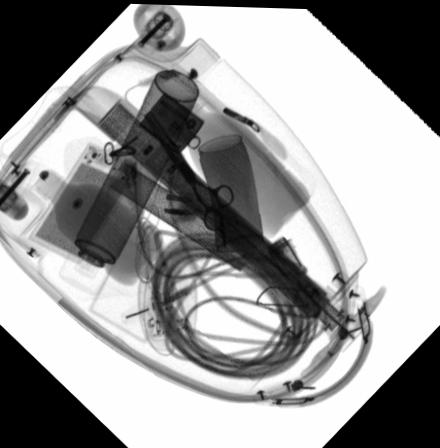Lighter: (138, 90, 204, 152)
Powerbank: (26, 140, 139, 263)
Scissors: (139, 108, 233, 247)
Sprayer: (57, 66, 198, 293)
